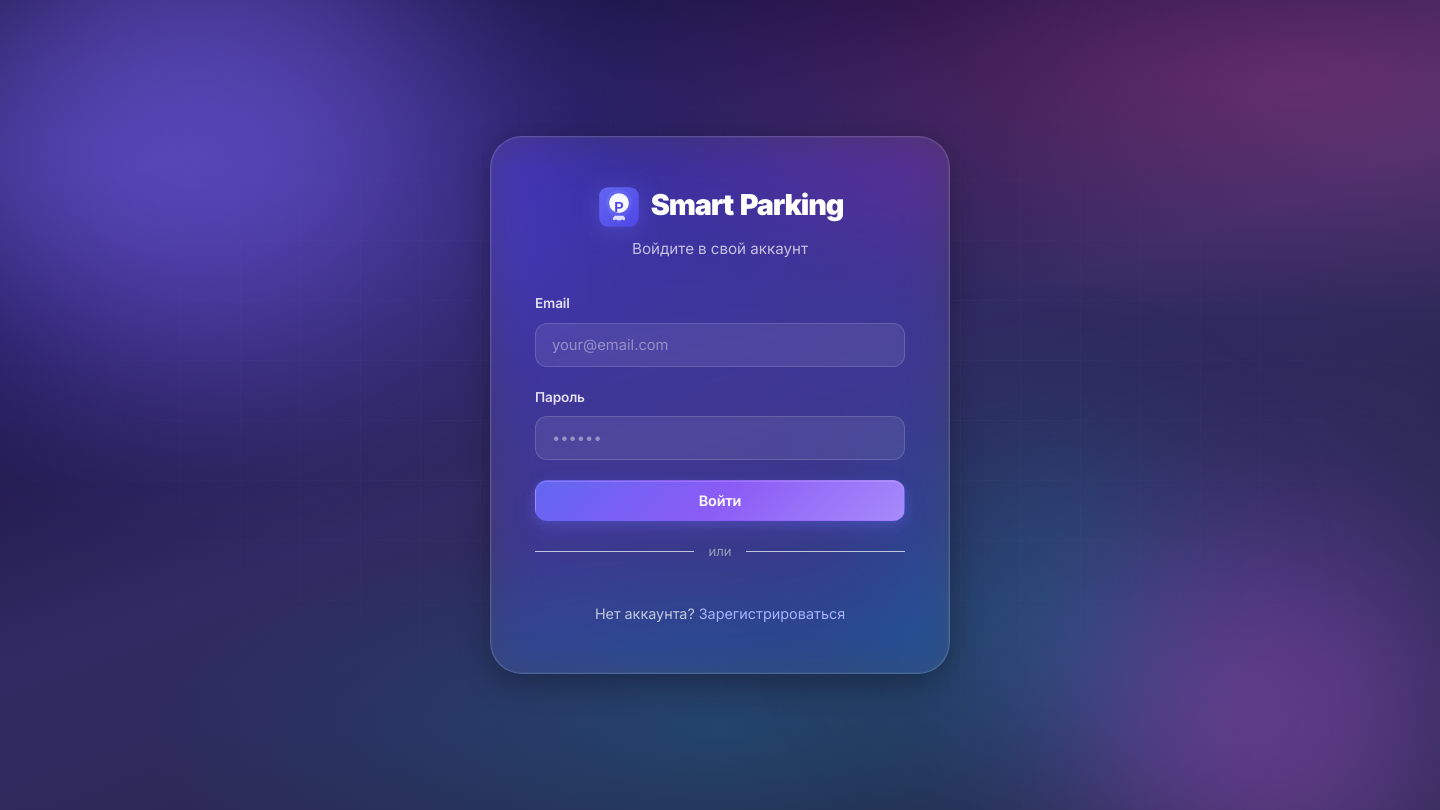
Test: LoginPage › shows error on failed login
Type "bad@test.com" into the field with placeholder "your@email.com" at coordinates (720, 345), box [535,323,905,367]
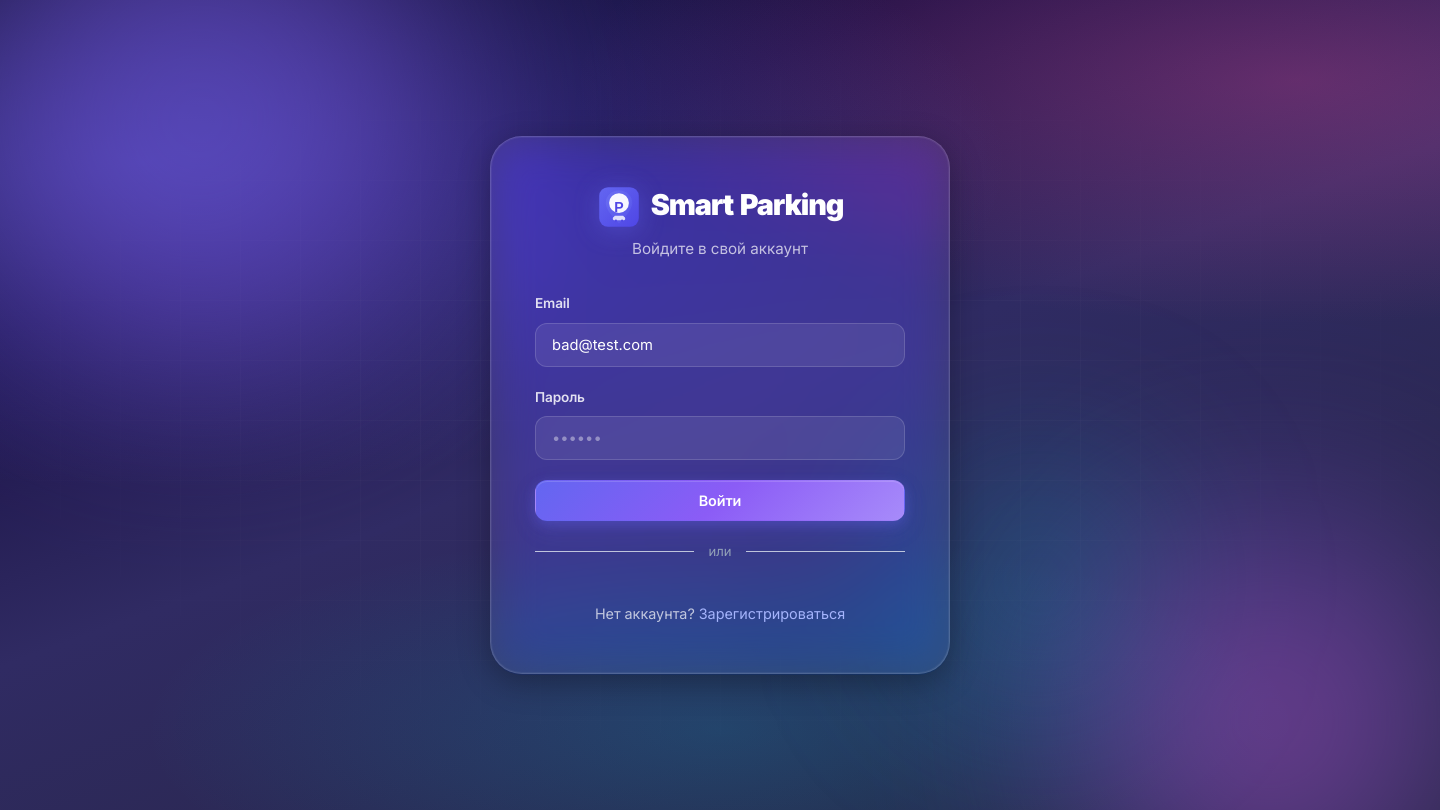
Type "wrong" into the password field with placeholder "••••••" at coordinates (720, 438), box [535,416,905,460]
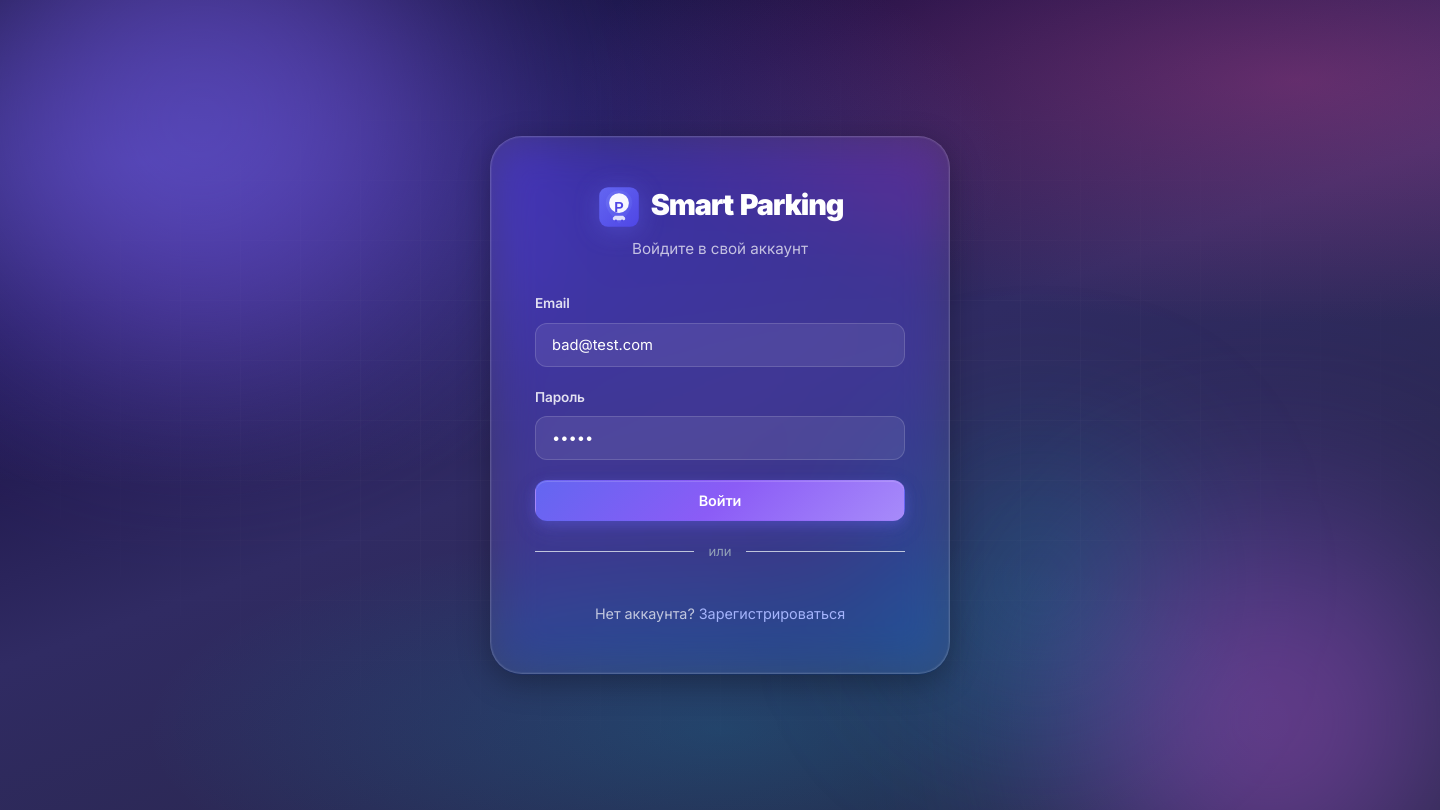
Click the button "Войти" at coordinates (720, 501), box [535,480,905,521]
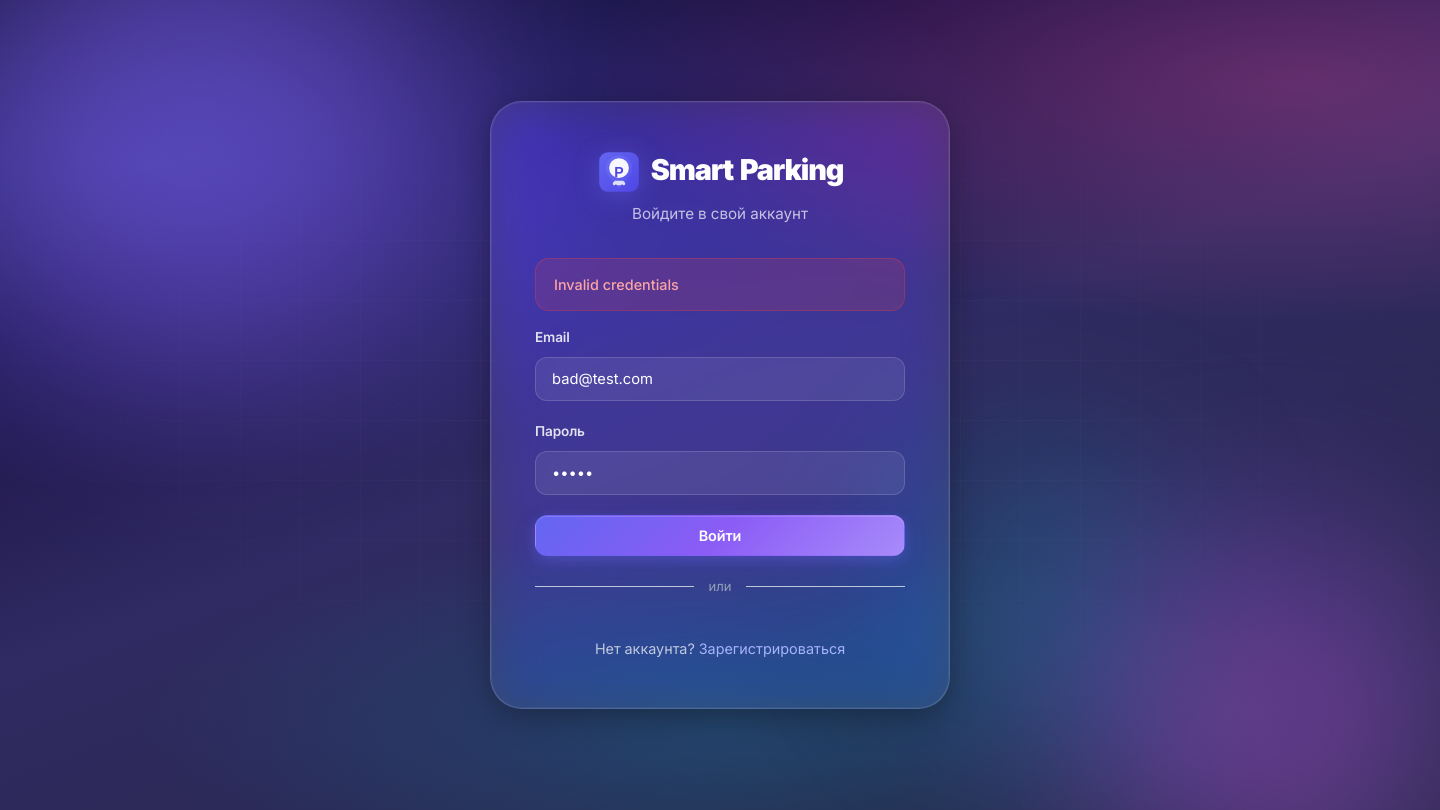
Now the text "Invalid credentials" is shown, box [535,258,905,311]
